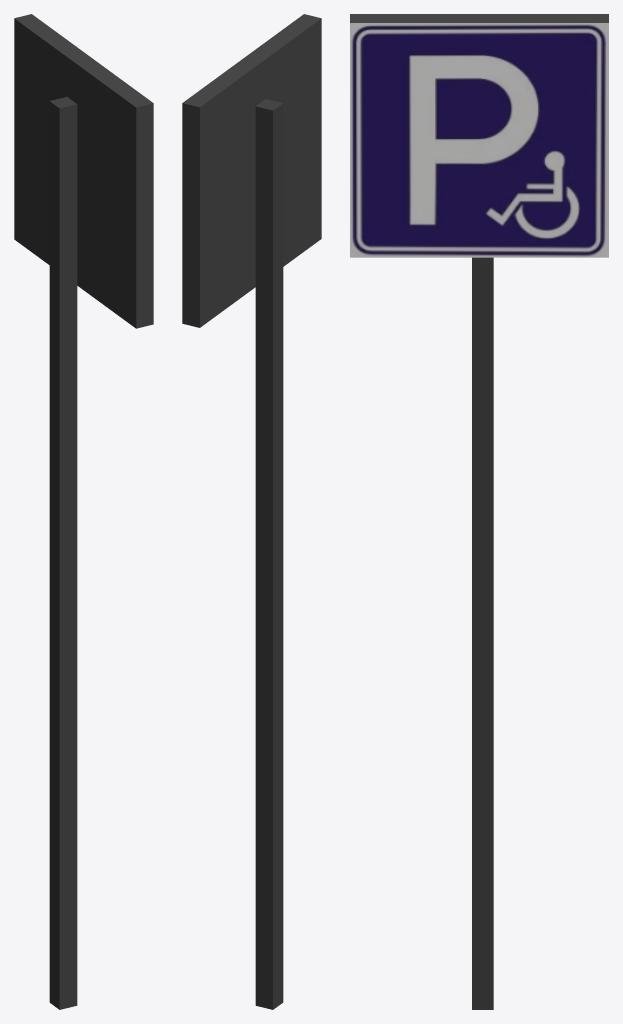
Rendered from engelli_park_levha.dae.
3 renders of one model, left to right at view 1: azimuth 30°, elevation 25°; view 2: azimuth 150°, elevation 25°; view 3: azimuth 270°, elevation 25°, orthographic. The views are drawn at different scales.
Visible parts, largest first — view 1: Cube, Cube.004; view 2: Cube, Cube.004; view 3: Cube, Cube.004.
Part boxes in pixels (bbox=[...]): Cube: bbox=[14, 14, 153, 328]; Cube.004: bbox=[49, 97, 77, 1009]; Cube: bbox=[182, 14, 321, 327]; Cube.004: bbox=[255, 99, 283, 1009]; Cube: bbox=[350, 14, 608, 257]; Cube.004: bbox=[472, 257, 493, 1009].
Size of the model in its own units: 0.104 by 0.6 by 2.55.
3 materials, 1 textured.
